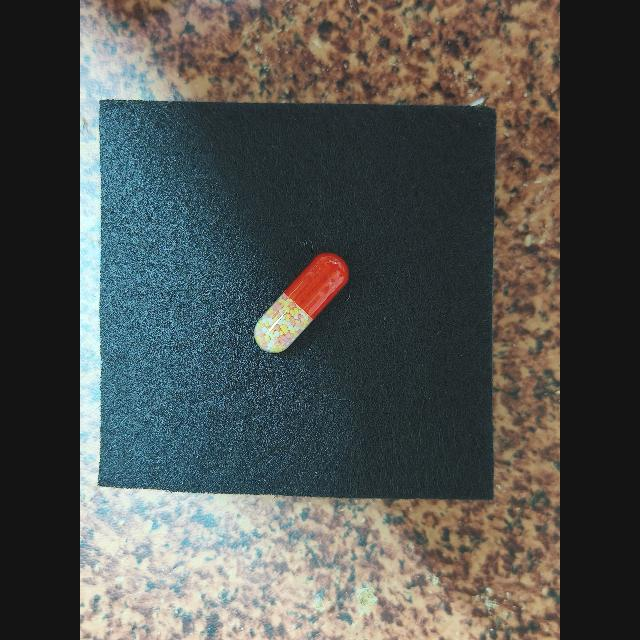Intact Capsule: (254, 253, 349, 353)
